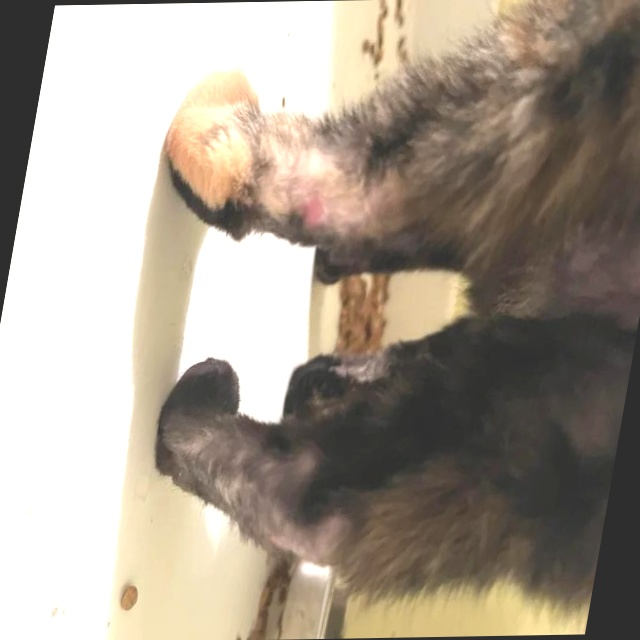hairloss: (235, 172, 384, 222), (262, 518, 335, 563)
